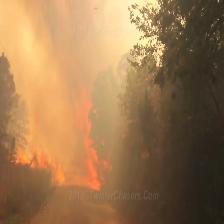fire: (13, 83, 119, 207)
